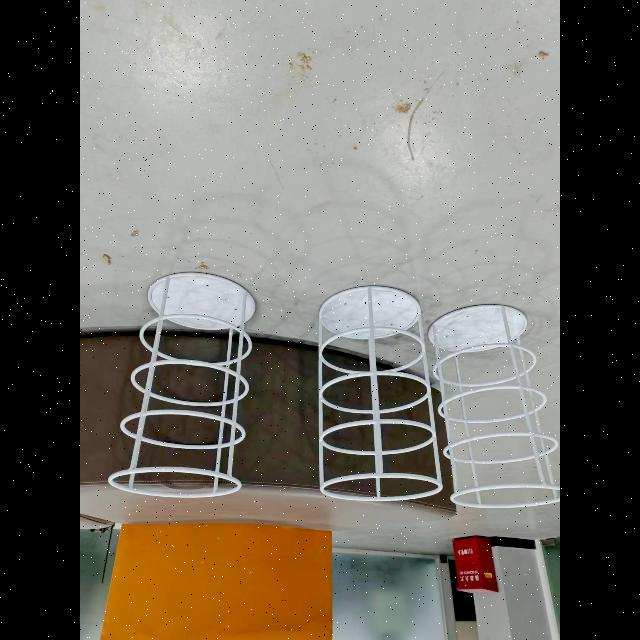S: (109, 272, 255, 498), (429, 305, 560, 508), (319, 286, 442, 501)
